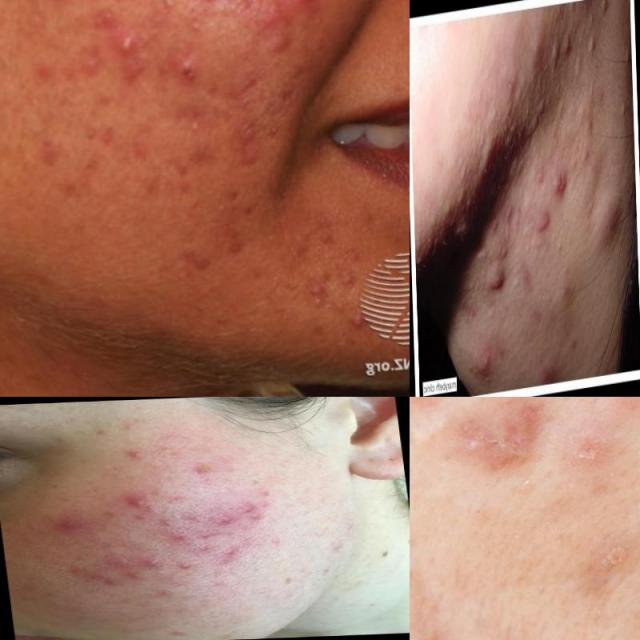8: (253, 18, 300, 66), (163, 46, 212, 92), (143, 422, 196, 464), (49, 516, 84, 538), (66, 563, 102, 582), (212, 544, 245, 562), (118, 446, 146, 467), (123, 496, 154, 511), (115, 568, 150, 581), (141, 559, 173, 573), (239, 502, 261, 521), (109, 555, 132, 568), (211, 514, 235, 526), (173, 564, 193, 578), (100, 574, 120, 588), (168, 532, 190, 544), (194, 543, 212, 553)
9: (112, 34, 157, 68), (337, 308, 373, 346), (274, 0, 336, 14)
blackheads: (466, 397, 546, 498), (409, 580, 474, 640), (546, 163, 572, 203)
dark spot: (584, 32, 597, 62), (618, 46, 630, 76), (595, 0, 610, 23), (562, 32, 572, 62)
pustules: (485, 256, 509, 306), (602, 191, 620, 253)
